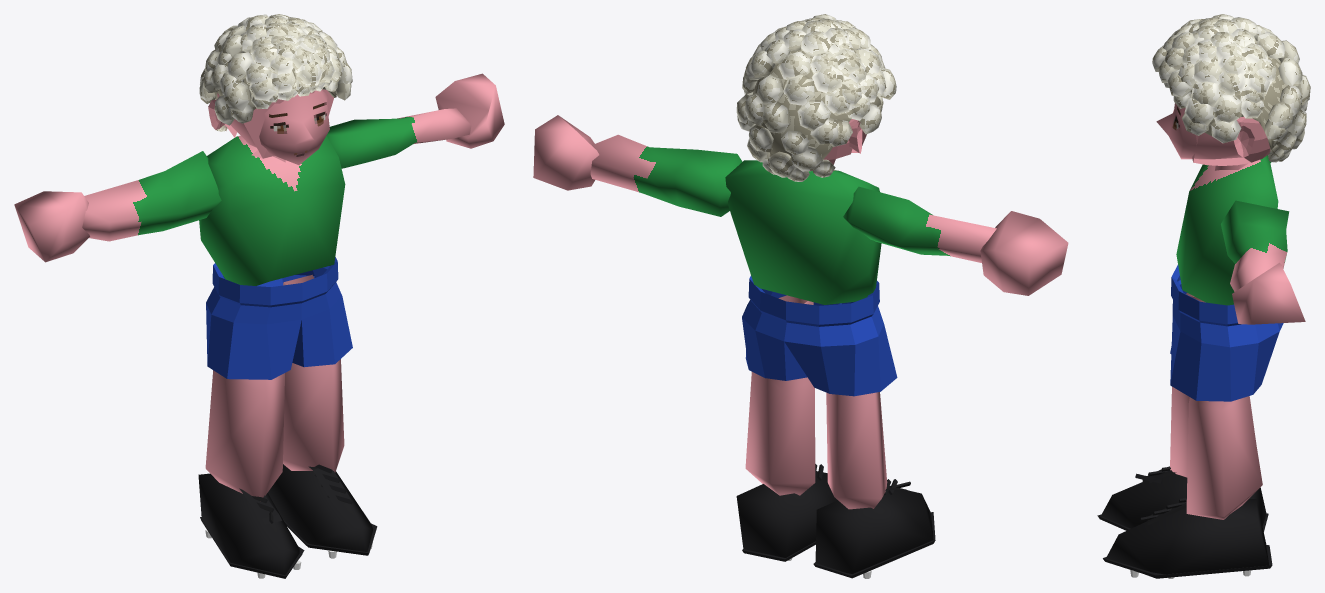
File: 04-cacheado-curto_loiro-pintado.glb
The picture shows the model from 3 angles, left to right: view 1: azimuth 30°, elevation 25°; view 2: azimuth 150°, elevation 25°; view 3: azimuth 270°, elevation 25°; orthographic projection. The views are drawn at different scales.
Parts seen in each view (by area): view 1: Camisa_Tronco, Bermuda, Cabelo, Perna.R, Braco.R, Perna.L, Chuteira.R, Chuteira.L, Braco.L, Mao.R, Cabeca, Mao.L (+3 smaller); view 2: Cabelo, Camisa_Tronco, Bermuda, Perna.L, Braco.L, Chuteira.R, Perna.R, Braco.R, Mao.R, Chuteira.L, Mao.L, Chuteira_Sola.R; view 3: Cabelo, Bermuda, Chuteira.L, Camisa_Tronco, Perna.L, Braco.L, Mao.L, Chuteira.R, Cabeca, Perna.R, Cranio, Chuteira_Sola.L (+3 smaller).
Boxes of the visible parts, x1=… form: Camisa_Tronco: x1=199, y1=135, x2=345, y2=285; Bermuda: x1=206, y1=257, x2=352, y2=379; Cabelo: x1=199, y1=14, x2=352, y2=131; Perna.R: x1=205, y1=370, x2=284, y2=501; Braco.R: x1=82, y1=151, x2=221, y2=241; Perna.L: x1=283, y1=274, x2=344, y2=472; Chuteira.R: x1=198, y1=473, x2=302, y2=574; Chuteira.L: x1=267, y1=464, x2=373, y2=551; Braco.L: x1=326, y1=108, x2=471, y2=168; Mao.R: x1=14, y1=191, x2=89, y2=262; Cabeca: x1=230, y1=90, x2=329, y2=164; Mao.L: x1=435, y1=73, x2=504, y2=148; Cabelo: x1=736, y1=14, x2=896, y2=181; Camisa_Tronco: x1=725, y1=160, x2=881, y2=304; Bermuda: x1=742, y1=276, x2=897, y2=396; Perna.L: x1=745, y1=295, x2=815, y2=495; Braco.L: x1=590, y1=134, x2=742, y2=216; Chuteira.R: x1=815, y1=486, x2=933, y2=573; Perna.R: x1=826, y1=392, x2=887, y2=509; Braco.R: x1=843, y1=186, x2=996, y2=262; Mao.R: x1=980, y1=211, x2=1068, y2=295; Chuteira.L: x1=736, y1=471, x2=837, y2=557; Mao.L: x1=533, y1=115, x2=599, y2=190; Chuteira_Sola.R: x1=813, y1=512, x2=935, y2=578; Cabelo: x1=1152, y1=14, x2=1310, y2=162; Bermuda: x1=1170, y1=265, x2=1283, y2=401; Chuteira.L: x1=1106, y1=499, x2=1269, y2=578; Camisa_Tronco: x1=1176, y1=155, x2=1278, y2=305; Perna.L: x1=1186, y1=396, x2=1262, y2=519; Braco.L: x1=1221, y1=200, x2=1289, y2=291; Mao.L: x1=1232, y1=262, x2=1305, y2=324; Chuteira.R: x1=1101, y1=470, x2=1266, y2=528; Cabeca: x1=1156, y1=103, x2=1242, y2=159; Perna.R: x1=1170, y1=293, x2=1255, y2=477; Cranio: x1=1192, y1=116, x2=1270, y2=165; Chuteira_Sola.L: x1=1103, y1=545, x2=1272, y2=578.
Size of the model in its own units: 0.4523 by 0.4551 by 0.1655.
3 materials, 3 textured.
